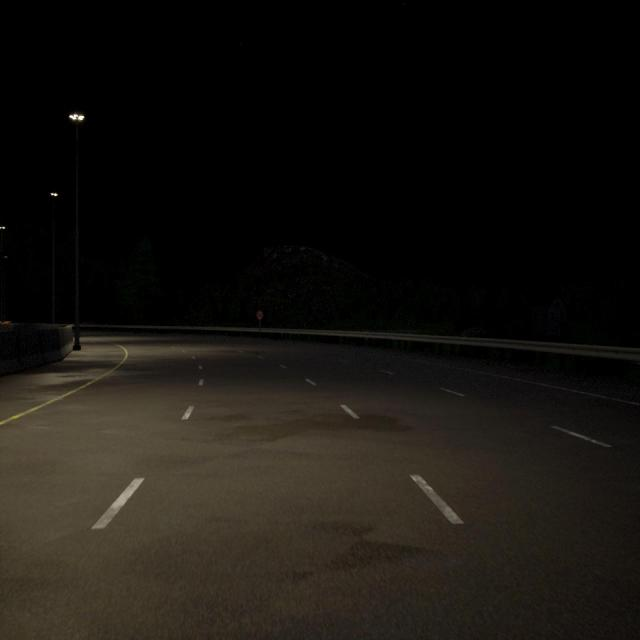Traffic_Signs: (256, 310, 264, 320)
